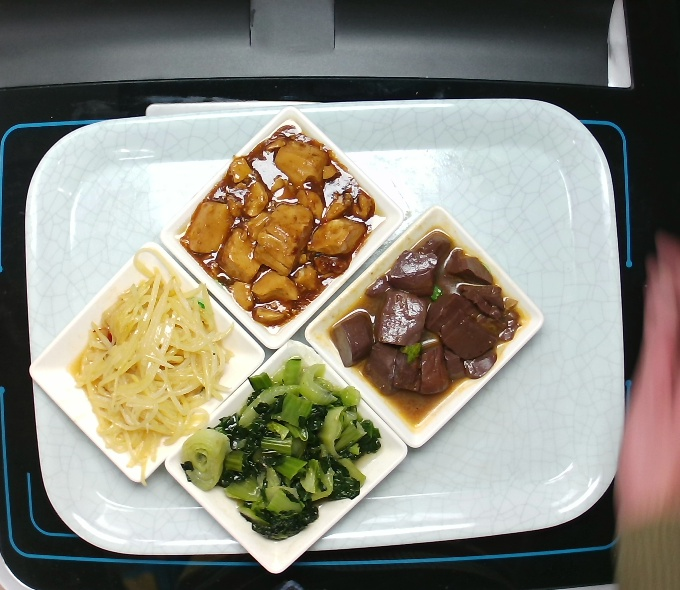wcq-MaPoDouFu: (182, 115, 374, 333)
wcq-NiuXue: (329, 228, 530, 405)
wcq-TuDouSi: (78, 265, 233, 466)
wcq-YouDongCai: (186, 359, 408, 534)
